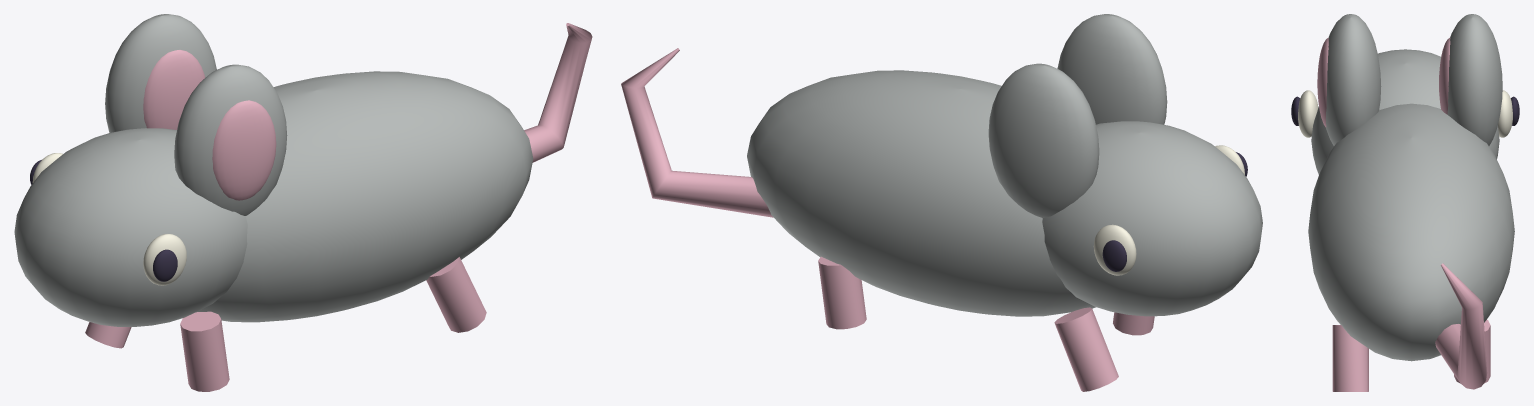
Rendered from conch_rat_run_Run.glb.
3 renders of one model, left to right at view 1: azimuth 30°, elevation 25°; view 2: azimuth 150°, elevation 25°; view 3: azimuth 270°, elevation 25°, orthographic. The views are drawn at different scales.
Bounding box in the file's own units: 20.15 × 10.15 × 7.52.
